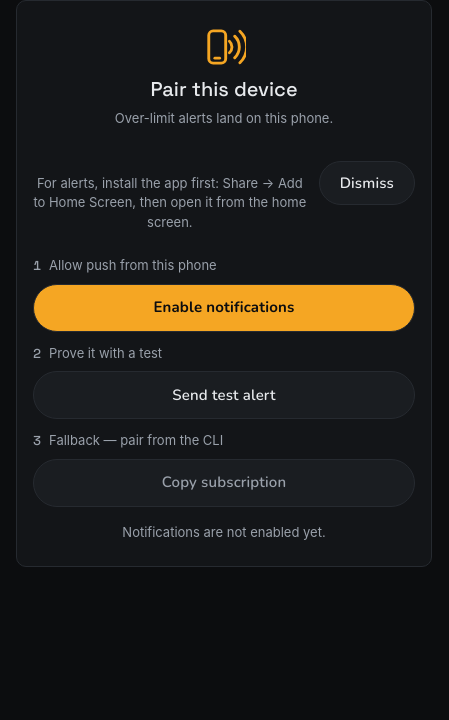
Test: PairingView › the NotAllowedError path shows the friendly sentence AND the raw message
This screenshot has width=449, height=720.
What coordinates should you click on to do the following:
click the button "Enable notifications"
I would click on:
 (224, 308)
Its box is left=33, top=284, right=415, bottom=332.
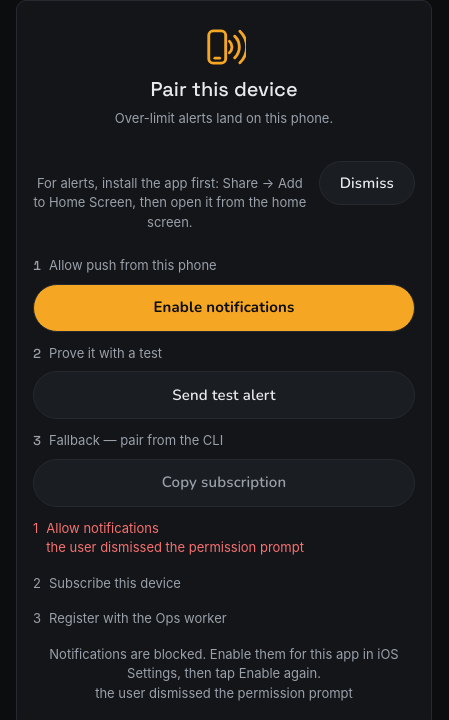
Expected: the text "Notifications are blocked. Enable them for this app in iOS Settings, then tap Enable again." is shown, left=49, top=646, right=399, bottom=681
